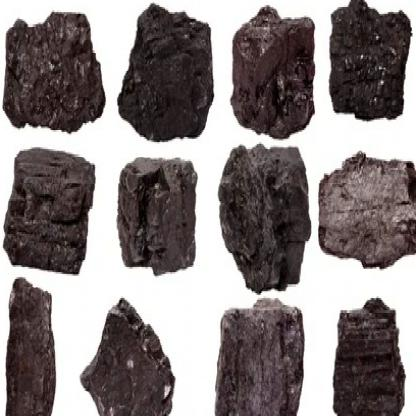Sedimentary_coal: (115, 0, 215, 146), (0, 0, 108, 132), (216, 140, 309, 293), (223, 0, 321, 137), (317, 148, 415, 278), (2, 140, 95, 274), (206, 293, 308, 414), (78, 296, 182, 414), (114, 151, 208, 274), (325, 0, 414, 125), (322, 296, 412, 414), (0, 278, 59, 414)
